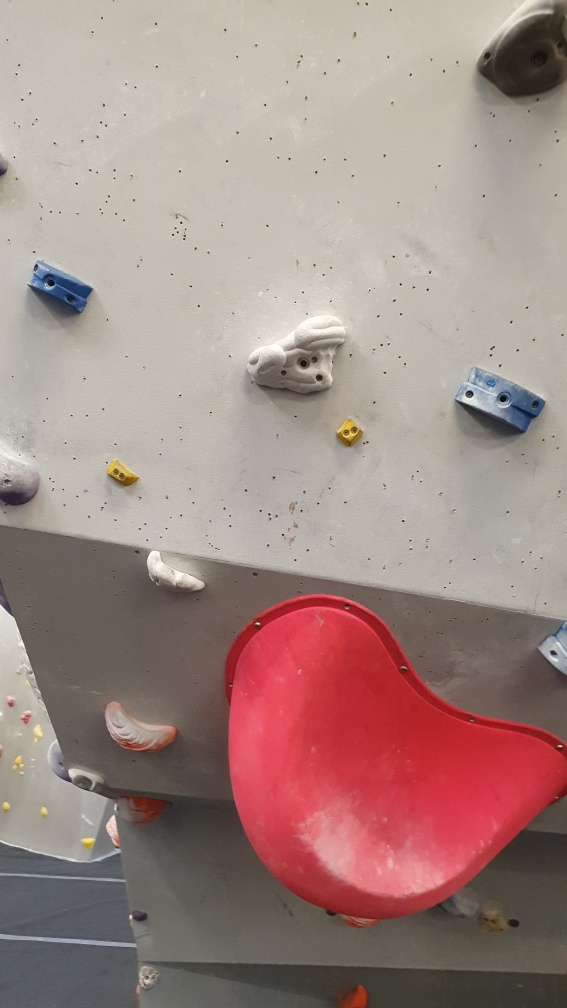Crimp: (102, 455, 144, 490)
Jug: (244, 311, 355, 404), (97, 695, 183, 754), (139, 548, 208, 599)
Pinch: (452, 361, 552, 438), (26, 255, 101, 319), (328, 415, 378, 450)
